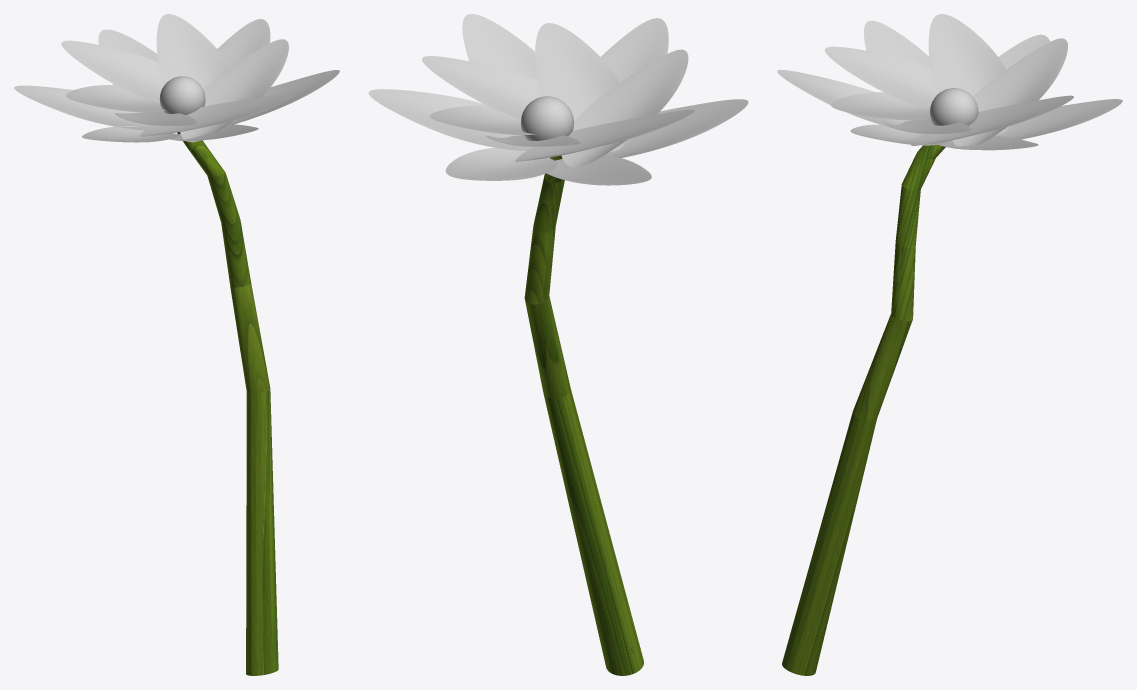
File: Blume2.fbx
3 views of the same model, side by side, from view 1: azimuth 30°, elevation 25°; view 2: azimuth 150°, elevation 25°; view 3: azimuth 270°, elevation 25° (orthographic). The views are drawn at different scales.
Visible parts, largest first — view 1: Petall, Stem, LargePetall, Sphere; view 2: Petall, LargePetall, Stem, Sphere; view 3: Petall, Stem, LargePetall, Sphere.
Part boxes in pixels (x1=…): Petall: x1=61, y1=14, x2=294, y2=142; Stem: x1=177, y1=132, x2=278, y2=675; LargePetall: x1=14, y1=19, x2=339, y2=142; Sphere: x1=159, y1=76, x2=205, y2=114; Petall: x1=422, y1=23, x2=694, y2=167; LargePetall: x1=368, y1=14, x2=748, y2=185; Stem: x1=524, y1=155, x2=643, y2=675; Sphere: x1=520, y1=96, x2=573, y2=140; Petall: x1=824, y1=14, x2=1073, y2=146; Stem: x1=782, y1=145, x2=945, y2=675; LargePetall: x1=777, y1=20, x2=1122, y2=150; Sphere: x1=930, y1=88, x2=978, y2=125.
Bounding box in the file's own units: 145 × 162 × 308.
Materials: 3 (1 with a texture image).
